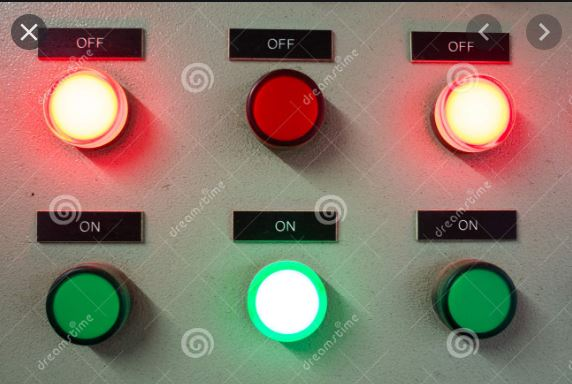Green_Led_Off: (44, 264, 130, 346), (438, 259, 520, 343)
Green_Led_On: (244, 258, 327, 344)
Red_Led_Off: (246, 66, 324, 148)
Red_Led_On: (42, 69, 129, 149), (437, 70, 516, 156)
